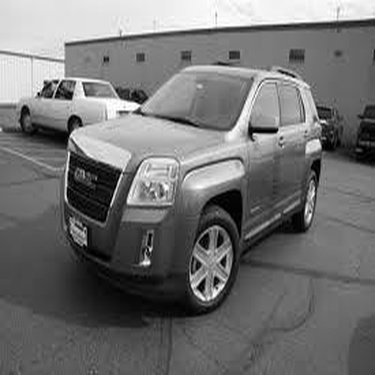car: (56, 75, 331, 310), (1, 72, 146, 120), (312, 77, 362, 151), (346, 90, 375, 162)
